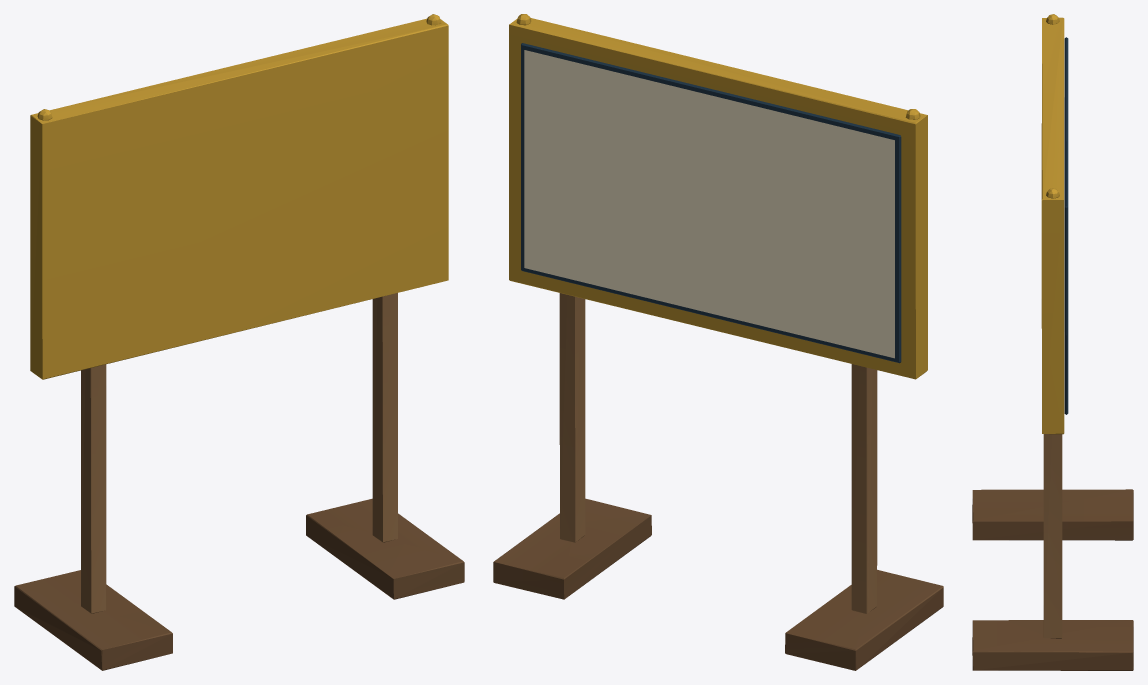
The model's file is contest_sign_low.glb.
3 views of the same model, side by side, from view 1: azimuth 30°, elevation 25°; view 2: azimuth 150°, elevation 25°; view 3: azimuth 270°, elevation 25° (orthographic). The views are drawn at different scales.
Visible parts, largest first — view 1: structure; view 2: sign_plate, structure; view 3: structure.
Boxes of the visible parts, <box> form: structure: <box>14,14,464,670</box>; sign_plate: <box>524,50,894,358</box>; structure: <box>493,14,943,670</box>; structure: <box>972,14,1133,670</box>.
Bounding box in the file's own units: 1.76 × 2.2 × 0.6573.
